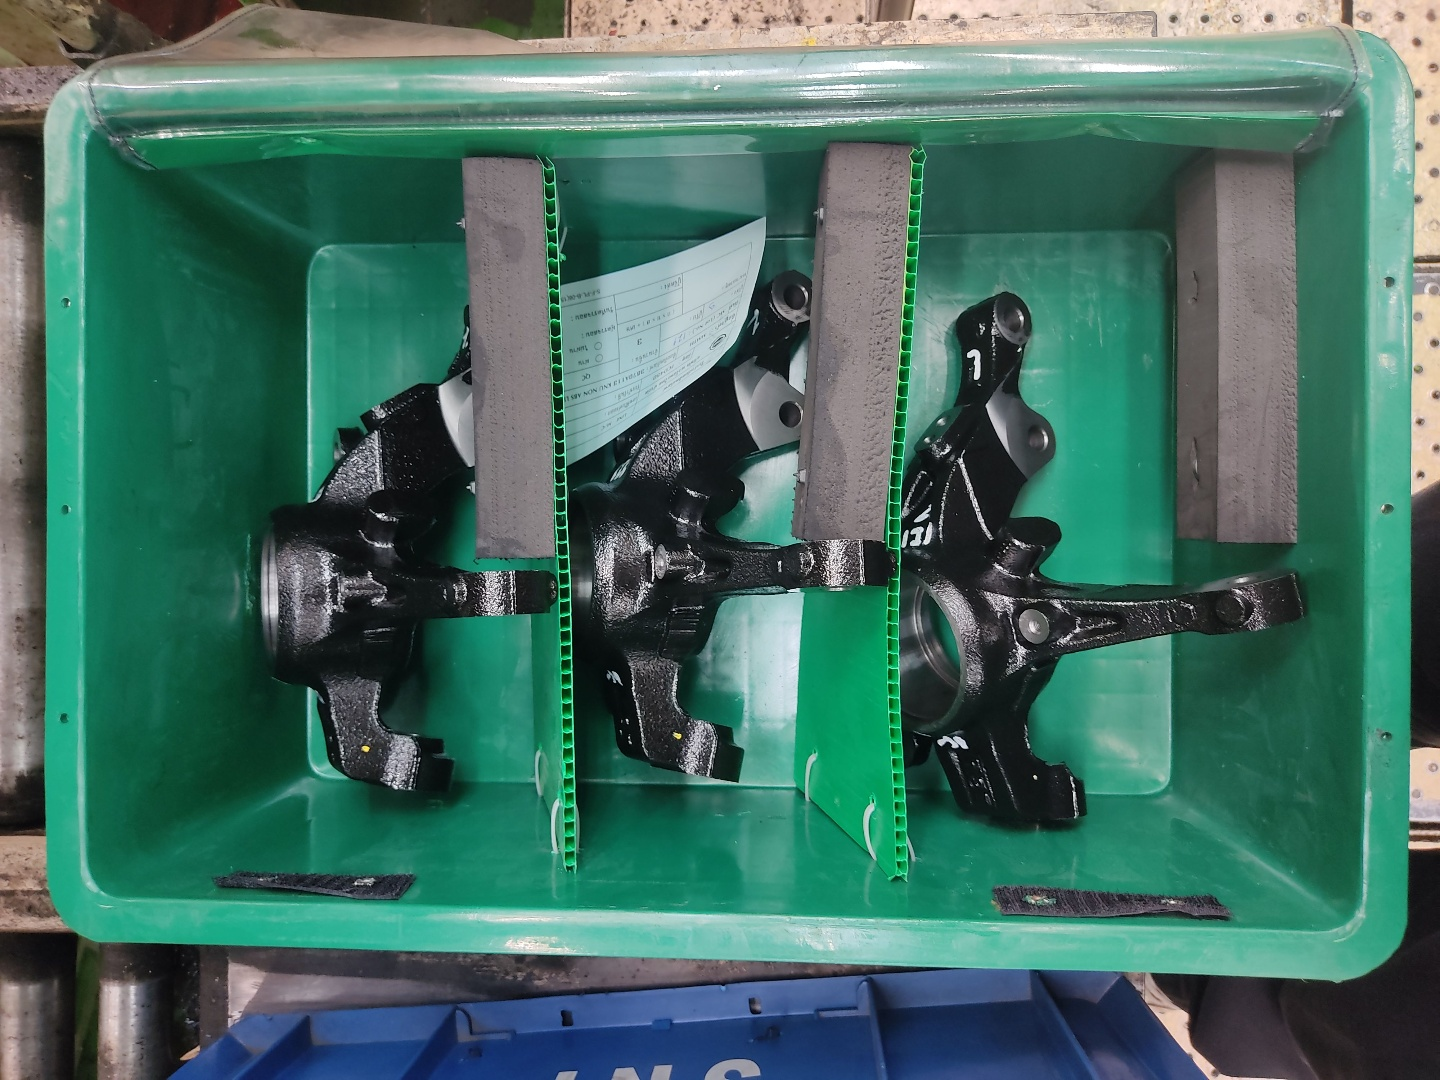non-lh: (897, 280, 1314, 843), (560, 265, 887, 793), (240, 286, 558, 805)
